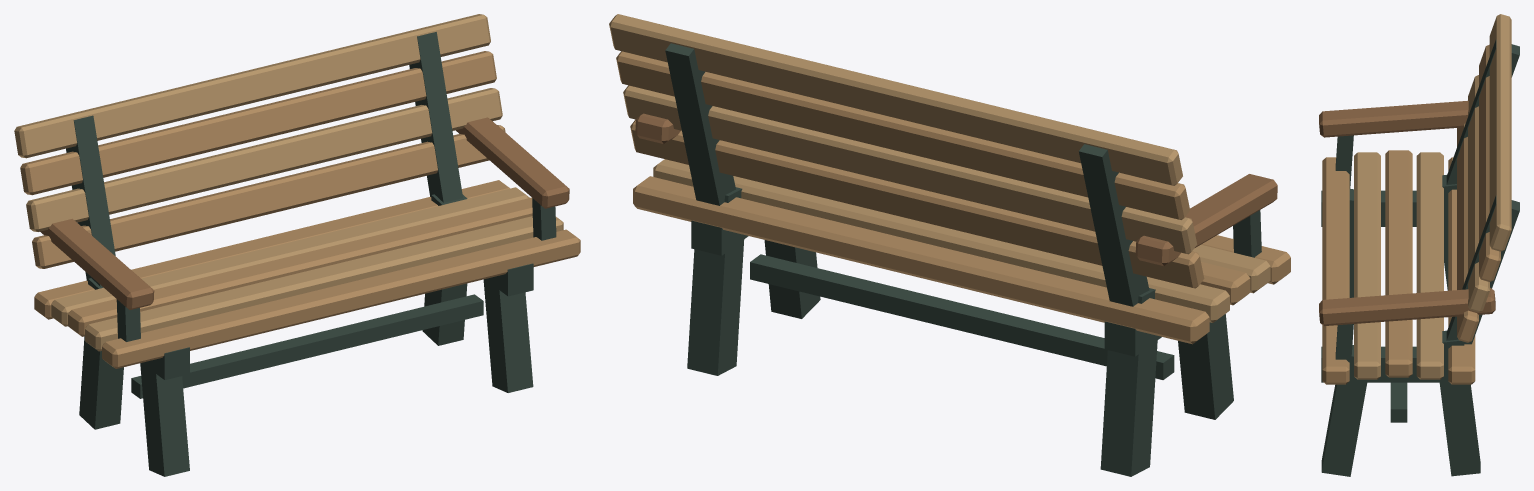
File: bench.glb
3 views of the same model, side by side, from view 1: azimuth 30°, elevation 25°; view 2: azimuth 150°, elevation 25°; view 3: azimuth 270°, elevation 25° (orthographic). The views are drawn at different scales.
Parts seen in each view (by area): view 1: surface; view 2: surface; view 3: surface.
Boxes of the visible parts, box(x1,y1,x2,y2) form: surface: box(14, 14, 580, 476); surface: box(609, 14, 1290, 476); surface: box(1319, 14, 1519, 476).
Bounding box in the file's own units: 2.4 × 1.44 × 0.9579.
